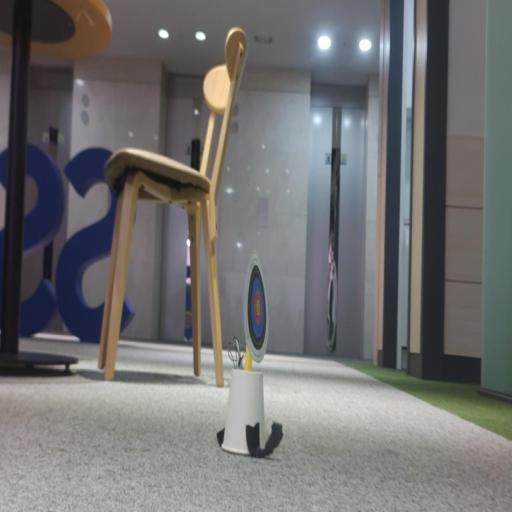target: (244, 252, 267, 361)
